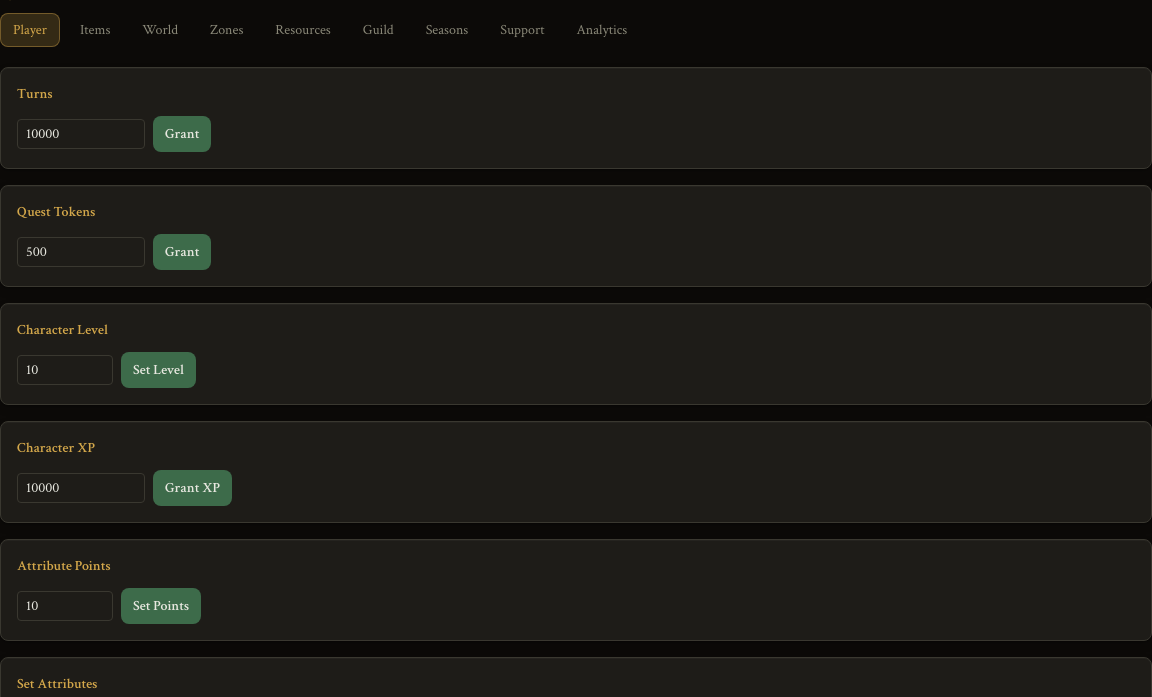
Test: AdminScreen analytics tab › shows onboarding, retention, and friction metrics
This screenshot has width=1152, height=697.
Step 1. Click the button "Analytics" → (602, 30), box 564,13 -> 639,47
(page scrolled)
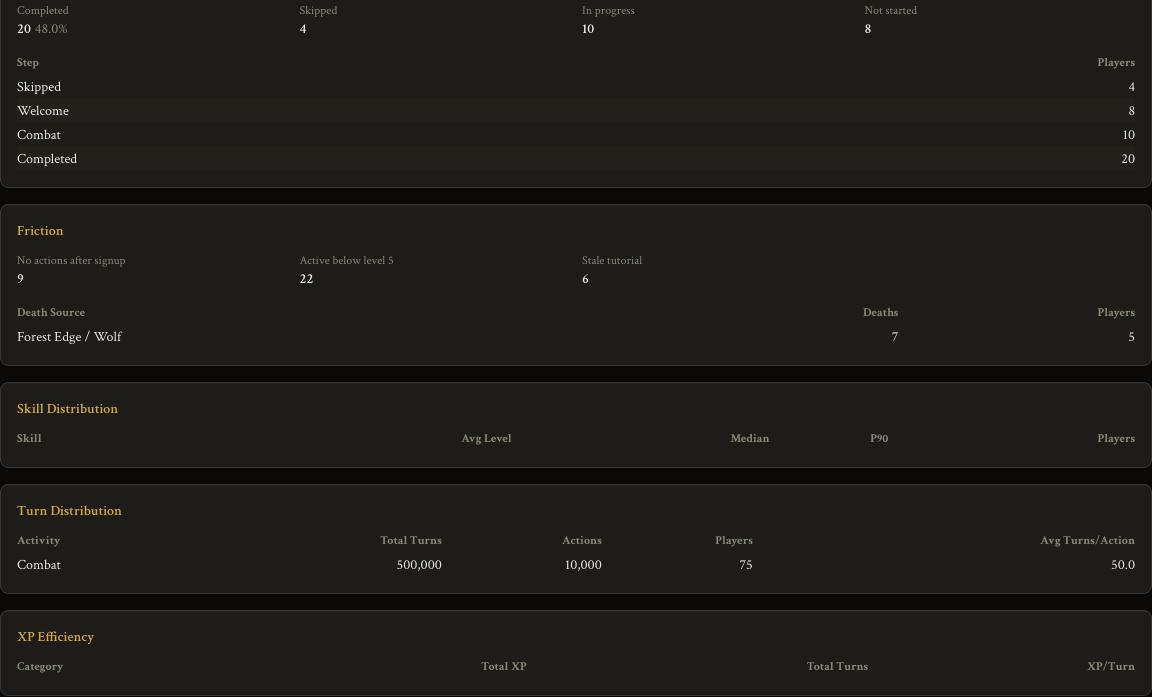
Now the heading "Friction" is shown, box 17,222 -> 64,240
Now the text "No actions after signup" is shown, box 17,253 -> 125,268
Now the text "Forest Edge / Wolf" is shown, box 17,325 -> 675,349
